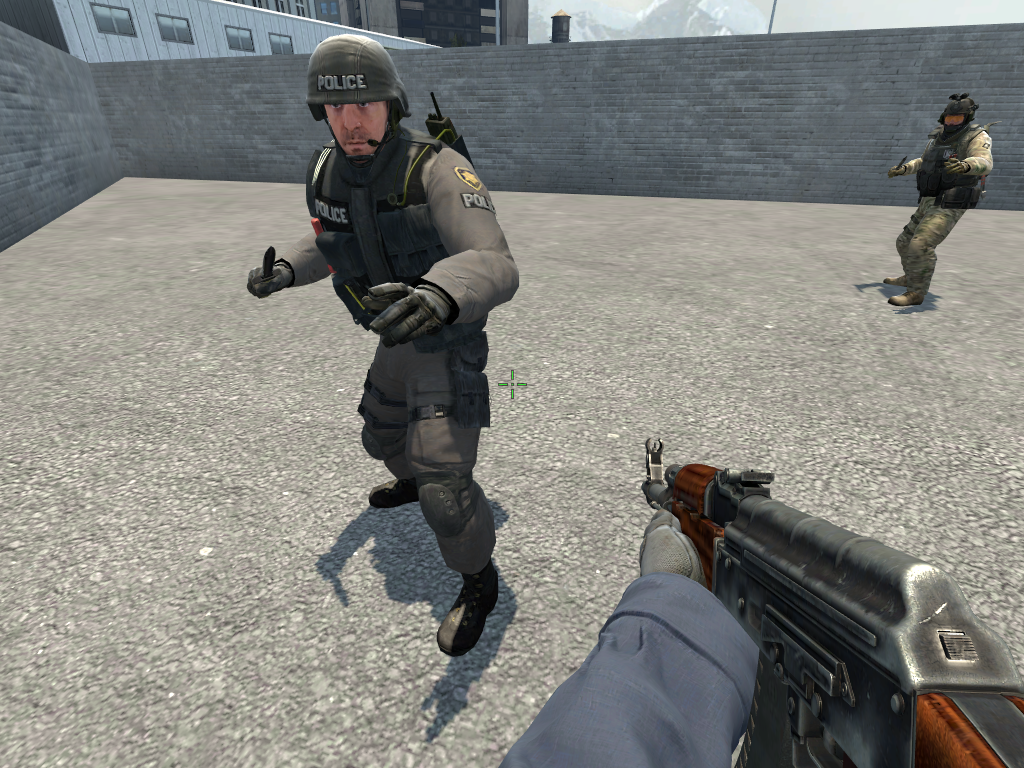ct head: (319, 46, 388, 157), (941, 100, 971, 133)
